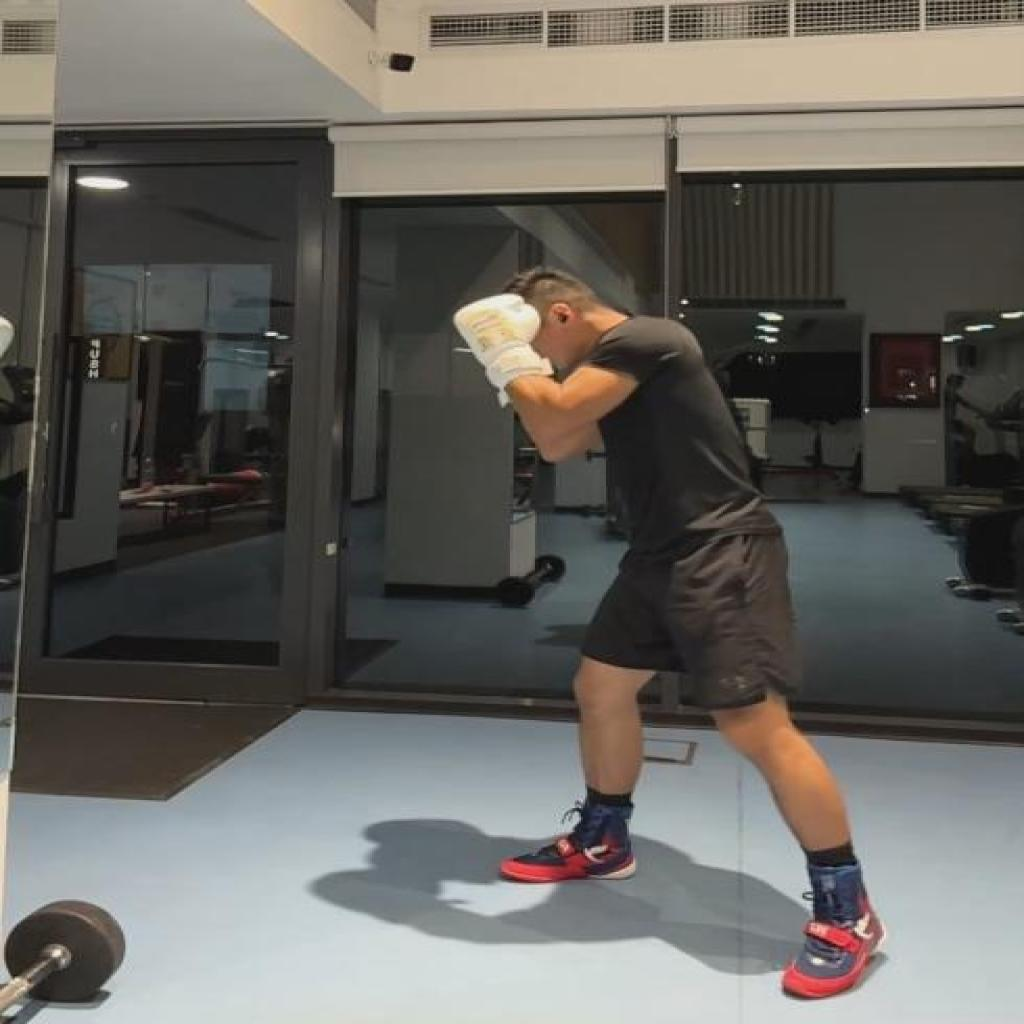no punch: (454, 264, 892, 1000)
